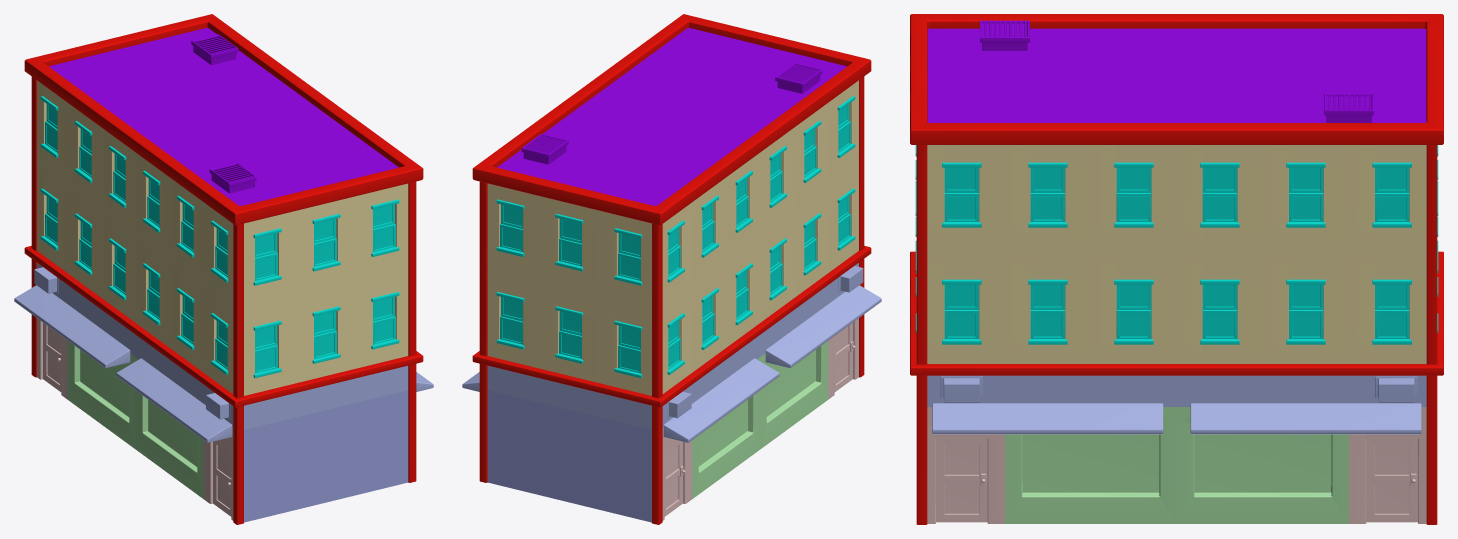
Rendered from Variante Edificio 3.fbx.
3 renders of one model, left to right at view 1: azimuth 30°, elevation 25°; view 2: azimuth 150°, elevation 25°; view 3: azimuth 270°, elevation 25°, orthographic. The views are drawn at different scales.
Visible parts, largest first — view 1: Tile pared Puerta.005, Tile pared Puerta.013, Tile pared Puerta.014, Tile pared Puerta.016, Tile pared Puerta.019, Tile pared Puerta.017, Tile pared Puerta.015, Tile pared Puerta.018, Tile pared Puerta.020, Tile pared Puerta.080, Tile pared Puerta.003, Tile pared Puerta.026 (+81 smaller); view 2: Tile pared Puerta.115, Tile pared Puerta.116, Tile pared Puerta.117, Tile pared Puerta.122, Tile pared Puerta.119, Tile pared Puerta.121, Tile pared Puerta.123, Tile pared Puerta.120, Tile pared Puerta.118, Tile pared Puerta.003, Tile pared Puerta.080, Tile pared Puerta.026 (+81 smaller); view 3: Tile pared Puerta.045, Tile pared Puerta.053, Tile pared Puerta.044, Tile pared Puerta.054, Tile pared Puerta.038, Tile pared Puerta.087, Tile pared Puerta.218, Tile pared Puerta.220, Tile pared Puerta.108, Tile pared Puerta.214, Tile pared Puerta.230, Tile pared Puerta.234 (+90 smaller).
Boxes of the visible parts, x1,y1,x2,y2 form: Tile pared Puerta.005: [296, 403, 355, 509]; Tile pared Puerta.013: [355, 390, 408, 495]; Tile pared Puerta.014: [244, 417, 296, 522]; Tile pared Puerta.016: [296, 280, 355, 382]; Tile pared Puerta.019: [296, 196, 355, 293]; Tile pared Puerta.017: [355, 267, 408, 368]; Tile pared Puerta.015: [244, 294, 296, 395]; Tile pared Puerta.018: [355, 183, 408, 279]; Tile pared Puerta.020: [244, 210, 296, 306]; Tile pared Puerta.080: [67, 184, 101, 297]; Tile pared Puerta.003: [169, 259, 203, 372]; Tile pared Puerta.026: [135, 234, 169, 347]; Tile pared Puerta.115: [540, 403, 599, 509]; Tile pared Puerta.116: [487, 390, 540, 495]; Tile pared Puerta.117: [599, 417, 651, 522]; Tile pared Puerta.122: [540, 280, 599, 382]; Tile pared Puerta.119: [540, 196, 599, 293]; Tile pared Puerta.121: [487, 267, 540, 368]; Tile pared Puerta.123: [599, 294, 651, 395]; Tile pared Puerta.120: [487, 183, 540, 279]; Tile pared Puerta.118: [599, 210, 651, 306]; Tile pared Puerta.003: [794, 184, 828, 297]; Tile pared Puerta.080: [692, 259, 726, 372]; Tile pared Puerta.026: [760, 209, 794, 322]; Tile pared Puerta.045: [1177, 407, 1262, 523]; Tile pared Puerta.053: [1091, 407, 1176, 523]; Tile pared Puerta.044: [1263, 434, 1348, 523]; Tile pared Puerta.054: [1005, 434, 1090, 523]; Tile pared Puerta.038: [1263, 251, 1348, 363]; Tile pared Puerta.087: [1177, 251, 1262, 363]; Tile pared Puerta.218: [1005, 251, 1090, 363]; Tile pared Puerta.220: [1091, 251, 1176, 363]; Tile pared Puerta.108: [1263, 145, 1348, 250]; Tile pared Puerta.214: [1177, 145, 1262, 250]; Tile pared Puerta.230: [1091, 145, 1176, 250]; Tile pared Puerta.234: [1005, 145, 1090, 250].
Size of the model in its own units: 1241 by 769 by 1036.
